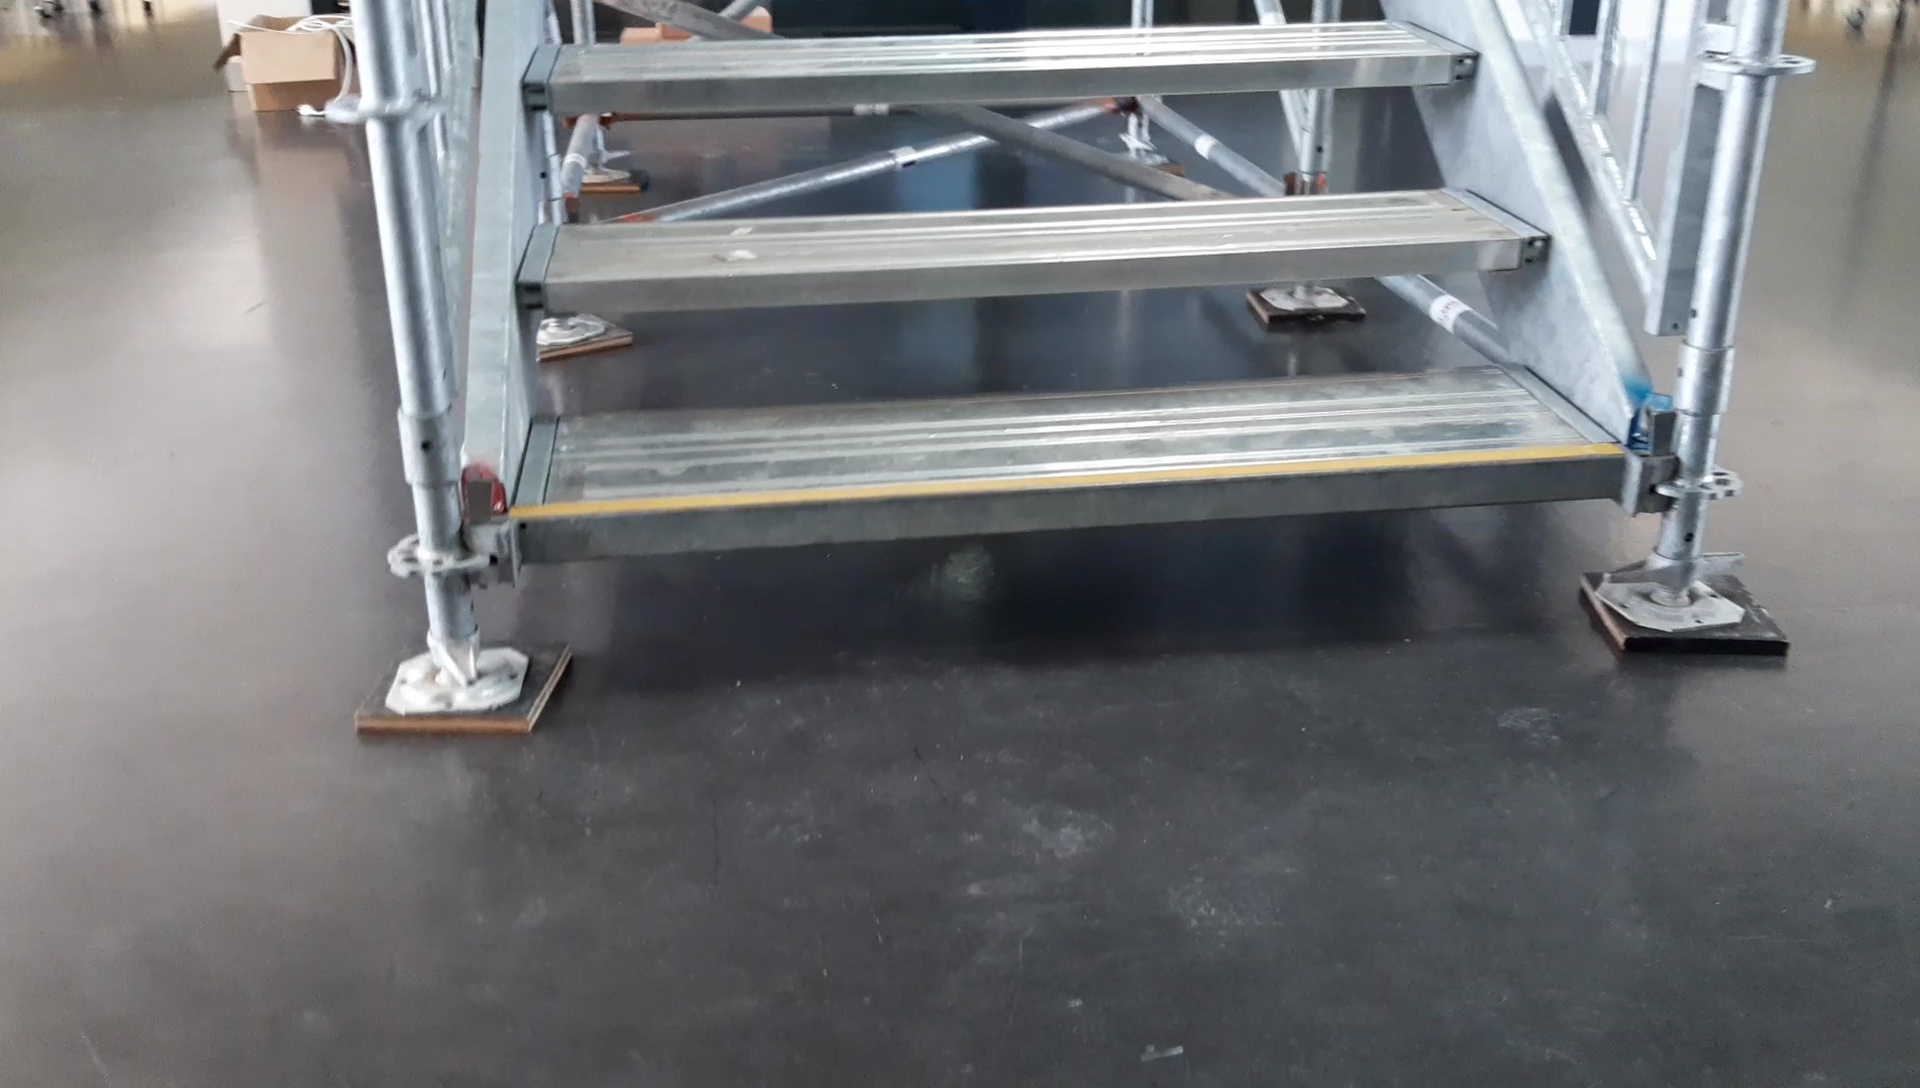edge: (516, 454, 1625, 558), (514, 235, 1549, 313), (521, 47, 1481, 112)
stairs: (326, 3, 1789, 725)
